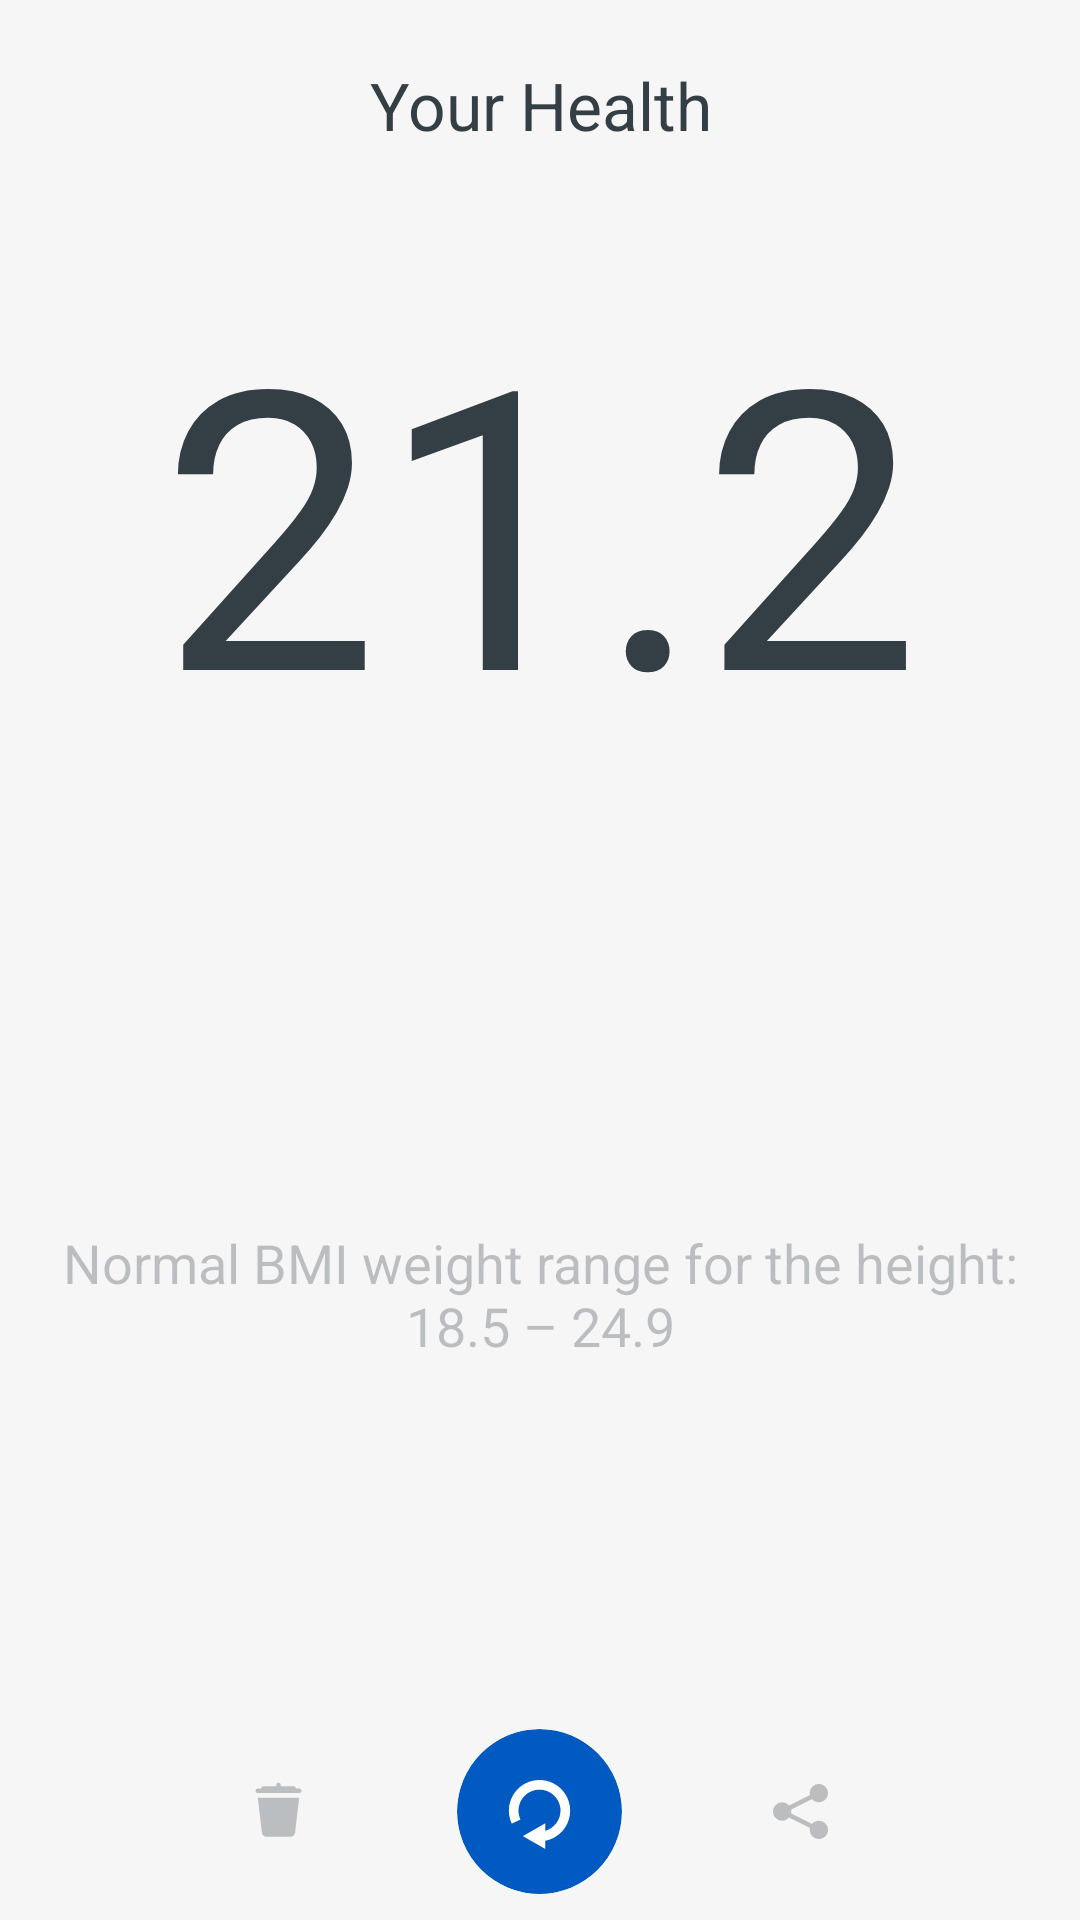

Icons on this 1080×1920 Android screen, each with the point to tap as (x=x, y=y):
delete: (x=278, y=1810)
rotate: (x=539, y=1813)
share: (x=800, y=1811)
